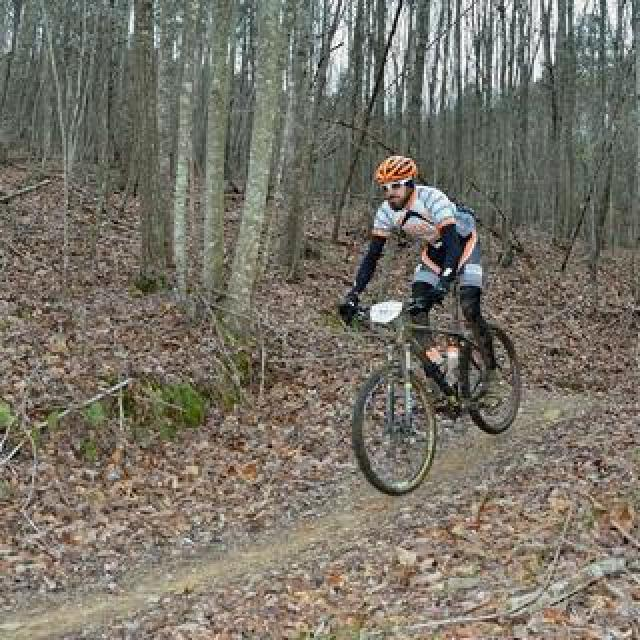MC-Bike: (340, 154, 480, 330)
Person: (347, 286, 521, 496)
